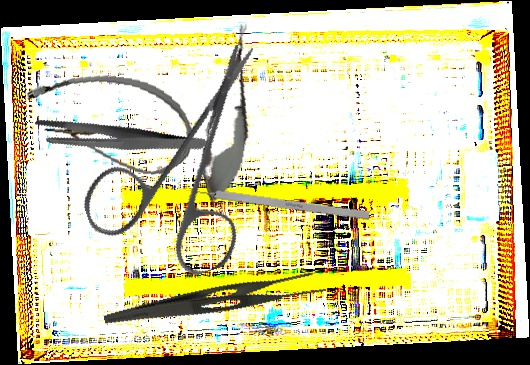Cannula: (18, 65, 200, 181)
Dressing Forceps: (102, 259, 328, 349), (30, 82, 208, 194)
Hook Surgical: (179, 184, 370, 221)
Iris Scissors: (50, 40, 317, 303)
Micro Scissor: (191, 17, 267, 212)
